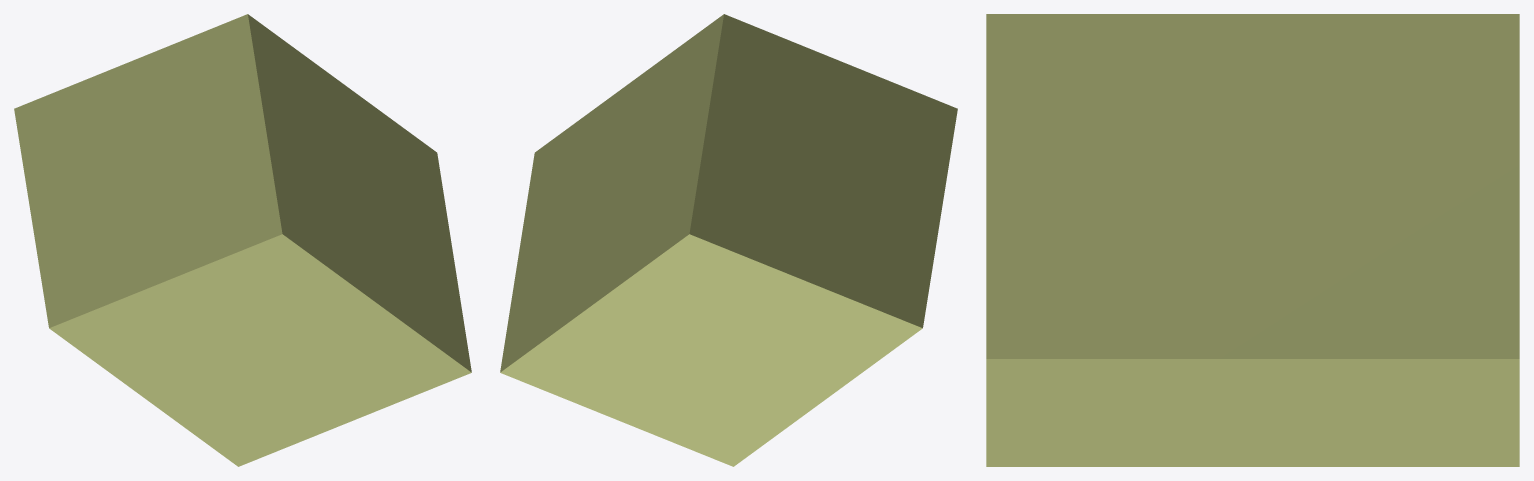
3 views of the same model, side by side, from view 1: azimuth 30°, elevation 25°; view 2: azimuth 150°, elevation 25°; view 3: azimuth 270°, elevation 25° (orthographic). The views are drawn at different scales.
Visible parts, largest first — view 1: 0_1_2_0_3_1_3_1_2_0; view 2: 0_1_2_0_3_1_3_1_2_0; view 3: 0_1_2_0_3_1_3_1_2_0.
Boxes of the visible parts, x1,y1,x2,y2 form: 0_1_2_0_3_1_3_1_2_0: (14,14,471,466); 0_1_2_0_3_1_3_1_2_0: (500,14,957,466); 0_1_2_0_3_1_3_1_2_0: (986,14,1519,466).
Bounding box in the file's own units: 7.36 × 6.97 × 9.
